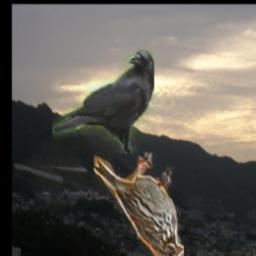Crow: (53, 50, 155, 153)
Sparrow: (95, 152, 185, 256)
